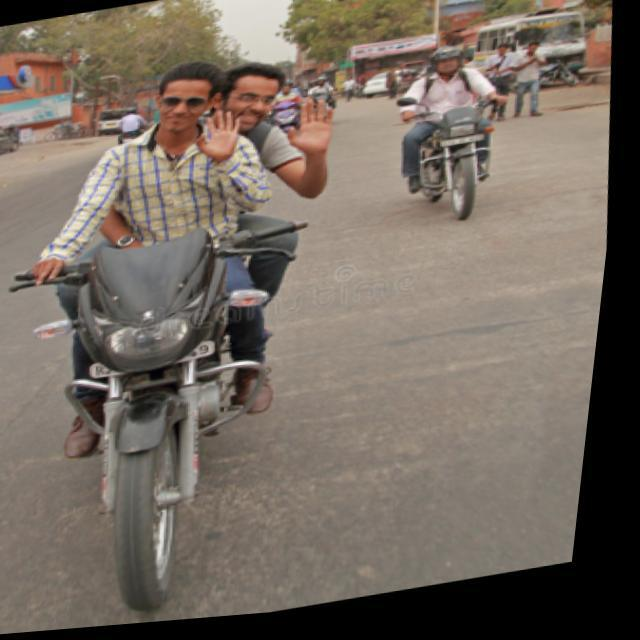Nonhelmet: (150, 58, 230, 138), (220, 56, 290, 140)
